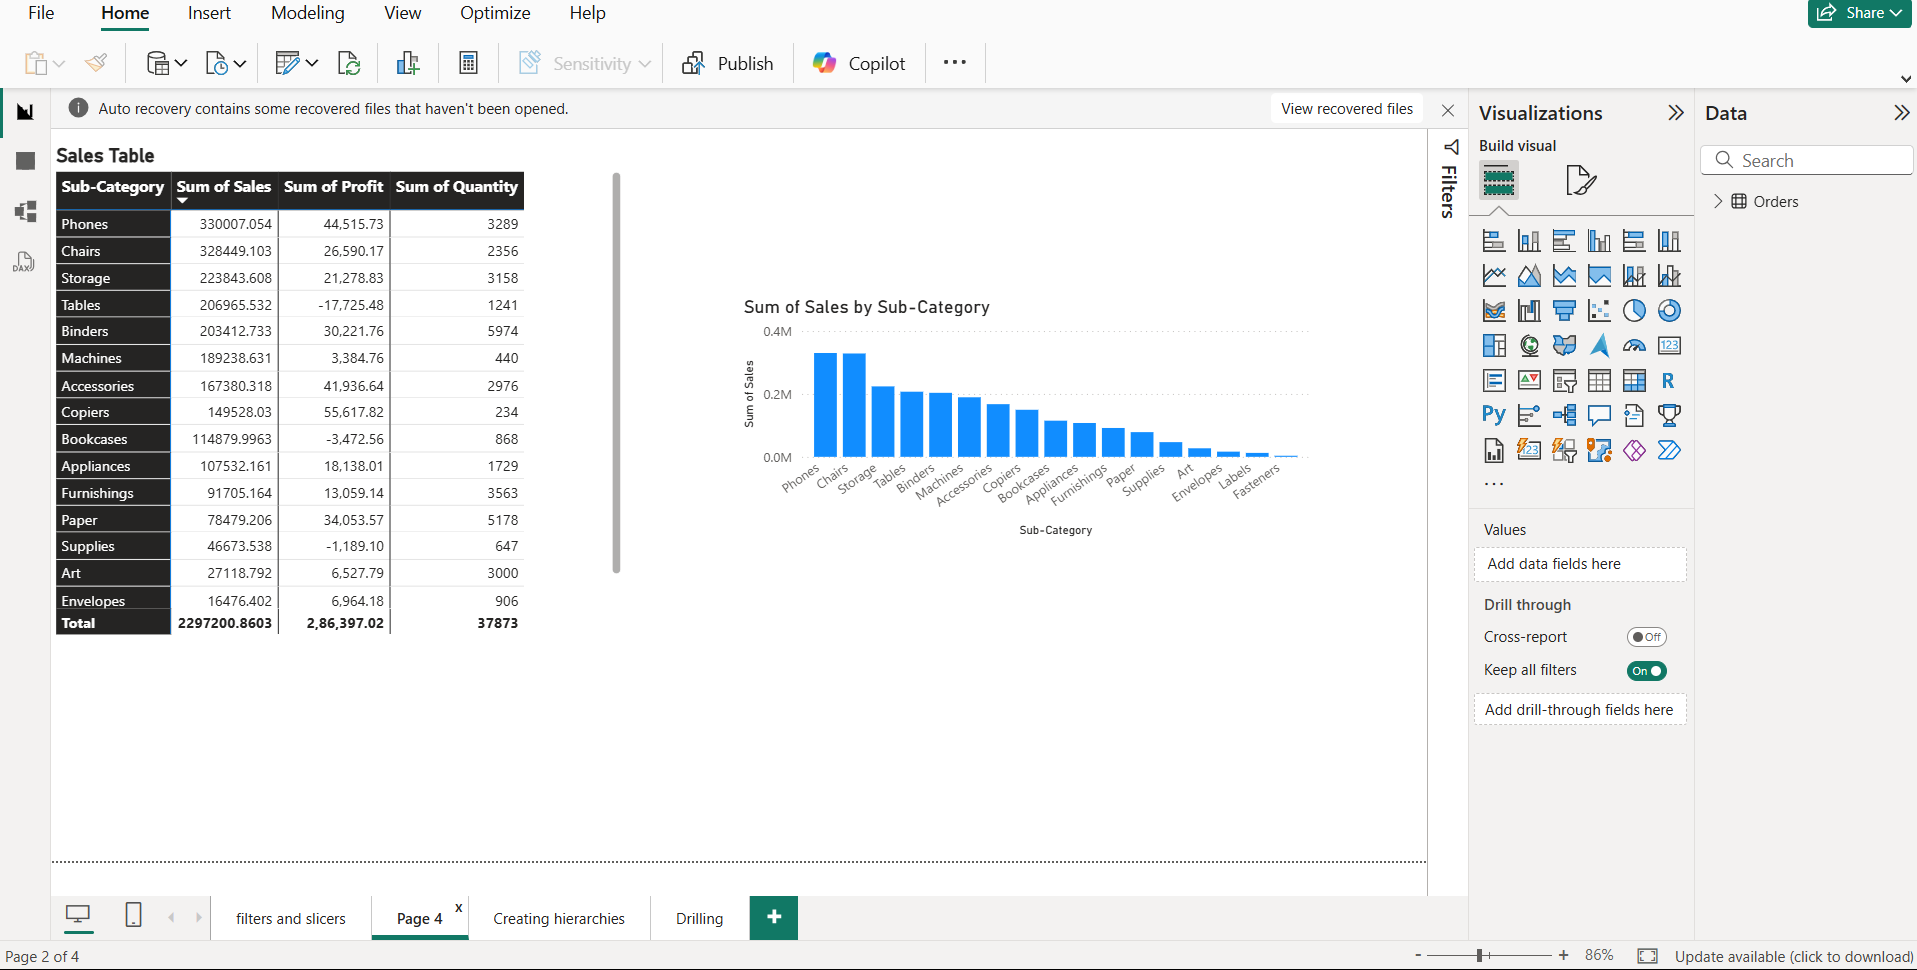

Layout of this report page (visuals, bound fields, positions):
{"tool":"powerbi","page":{"name":"Page 4","canvas":[1280,720],"ordinal":1},"visuals":[{"type":"pivotTable","title":"Sales Table","fields":{"Values":["Sum(Orders.Sales)","Sum(Orders.Profit)","Sum(Orders.Quantity)"],"Rows":["Orders.Sub-Category"]},"box":[0,52.8,535.5,461.1],"z":0},{"type":"columnChart","fields":{"Category":["Orders.Sub-Category"],"Y":["Sum(Orders.Sales)"]},"box":[639.5,193,536,229.1],"z":1000}]}

Visuals, with their boxes on the page's 1280x720 design canvas (x1, y1, x2, y2). These are canvas units, not pixel positions in the 1917x970 screenshot, which may show the page scaled, cropped or inside an application window:
"Sales Table" pivotTable: BBox(0, 53, 536, 514)
columnChart - Orders.Sub-Category x Sum(Orders.Sales): BBox(640, 193, 1176, 422)
